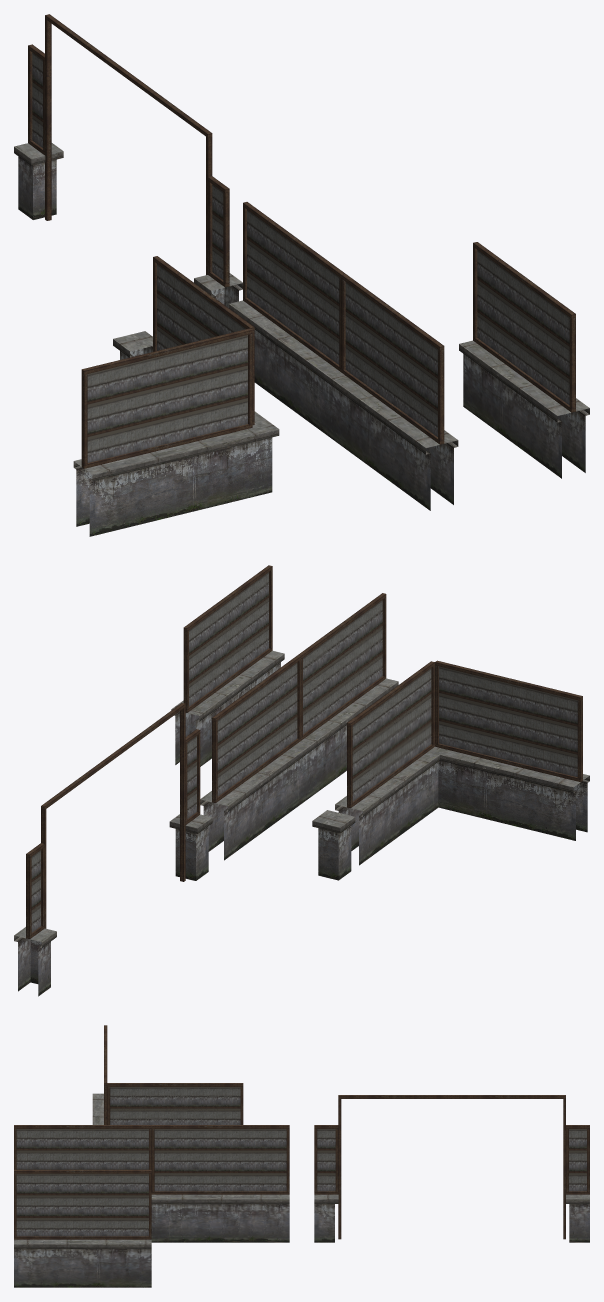
File: Concrete_fence_v2.FBX
3 views of the same model, one above another, from view 1: azimuth 30°, elevation 25°; view 2: azimuth 150°, elevation 25°; view 3: azimuth 270°, elevation 25° (orthographic). The views are drawn at different scales.
Parts seen in each view (by area): view 1: Concrete_fence_v2_S, Concrete_fence_v2_lattice_L, Concrete_fence_v2_L, Concrete_fence_v2_lattice_S, Concrete_fence_v2_S_half, Concrete_fence_v2_Gate, Concrete_fence_v2_lattice_S_half, Concrete_fence_v2_Gate_lattice, Concrete_fence_v2_end; view 2: Concrete_fence_v2_L, Concrete_fence_v2_lattice_L, Concrete_fence_v2_S, Concrete_fence_v2_lattice_S, Concrete_fence_v2_Gate, Concrete_fence_v2_lattice_S_half, Concrete_fence_v2_S_half, Concrete_fence_v2_end, Concrete_fence_v2_Gate_lattice; view 3: Concrete_fence_v2_lattice_S, Concrete_fence_v2_S, Concrete_fence_v2_lattice_S_half, Concrete_fence_v2_S_half, Concrete_fence_v2_Gate, Concrete_fence_v2_lattice_L, Concrete_fence_v2_Gate_lattice, Concrete_fence_v2_L.
Part boxes in pixels (left/top/right/bottom): Concrete_fence_v2_S: left=229, top=202, right=458, bottom=510; Concrete_fence_v2_lattice_L: left=87, top=264, right=247, bottom=462; Concrete_fence_v2_L: left=73, top=256, right=279, bottom=536; Concrete_fence_v2_lattice_S: left=247, top=209, right=437, bottom=436; Concrete_fence_v2_S_half: left=459, top=242, right=589, bottom=478; Concrete_fence_v2_Gate: left=14, top=14, right=242, bottom=307; Concrete_fence_v2_lattice_S_half: left=477, top=250, right=569, bottom=404; Concrete_fence_v2_Gate_lattice: left=32, top=52, right=223, bottom=279; Concrete_fence_v2_end: left=113, top=331, right=152, bottom=359; Concrete_fence_v2_L: left=335, top=660, right=589, bottom=865; Concrete_fence_v2_lattice_L: left=352, top=666, right=577, bottom=801; Concrete_fence_v2_S: left=200, top=593, right=398, bottom=860; Concrete_fence_v2_lattice_S: left=217, top=600, right=382, bottom=796; Concrete_fence_v2_Gate: left=14, top=703, right=212, bottom=996; Concrete_fence_v2_lattice_S_half: left=189, top=572, right=268, bottom=706; Concrete_fence_v2_S_half: left=171, top=565, right=284, bottom=766; Concrete_fence_v2_end: left=312, top=810, right=355, bottom=880; Concrete_fence_v2_Gate_lattice: left=31, top=736, right=196, bottom=932; Concrete_fence_v2_lattice_S: left=16, top=1129, right=286, bottom=1191; Concrete_fence_v2_S: left=14, top=1125, right=289, bottom=1242; Concrete_fence_v2_lattice_S_half: left=16, top=1173, right=148, bottom=1236; Concrete_fence_v2_S_half: left=14, top=1169, right=151, bottom=1287; Concrete_fence_v2_Gate: left=314, top=1095, right=589, bottom=1242; Concrete_fence_v2_lattice_L: left=110, top=1087, right=240, bottom=1124; Concrete_fence_v2_Gate_lattice: left=317, top=1129, right=586, bottom=1191; Concrete_fence_v2_L: left=92, top=1025, right=243, bottom=1124.
Size of the model in its own units: 7.33 by 3.25 by 11.85.
